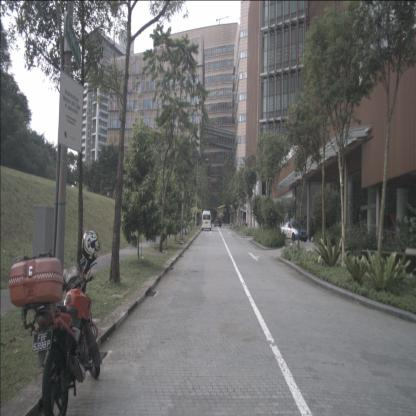vehicle-car: (281, 222, 308, 242), (202, 210, 212, 231), (214, 218, 222, 227)
vehicle-motorcycle: (9, 229, 102, 416)
